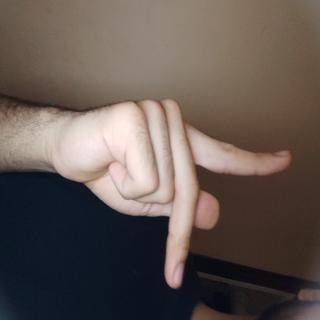DHAA: (67, 31, 223, 320)
